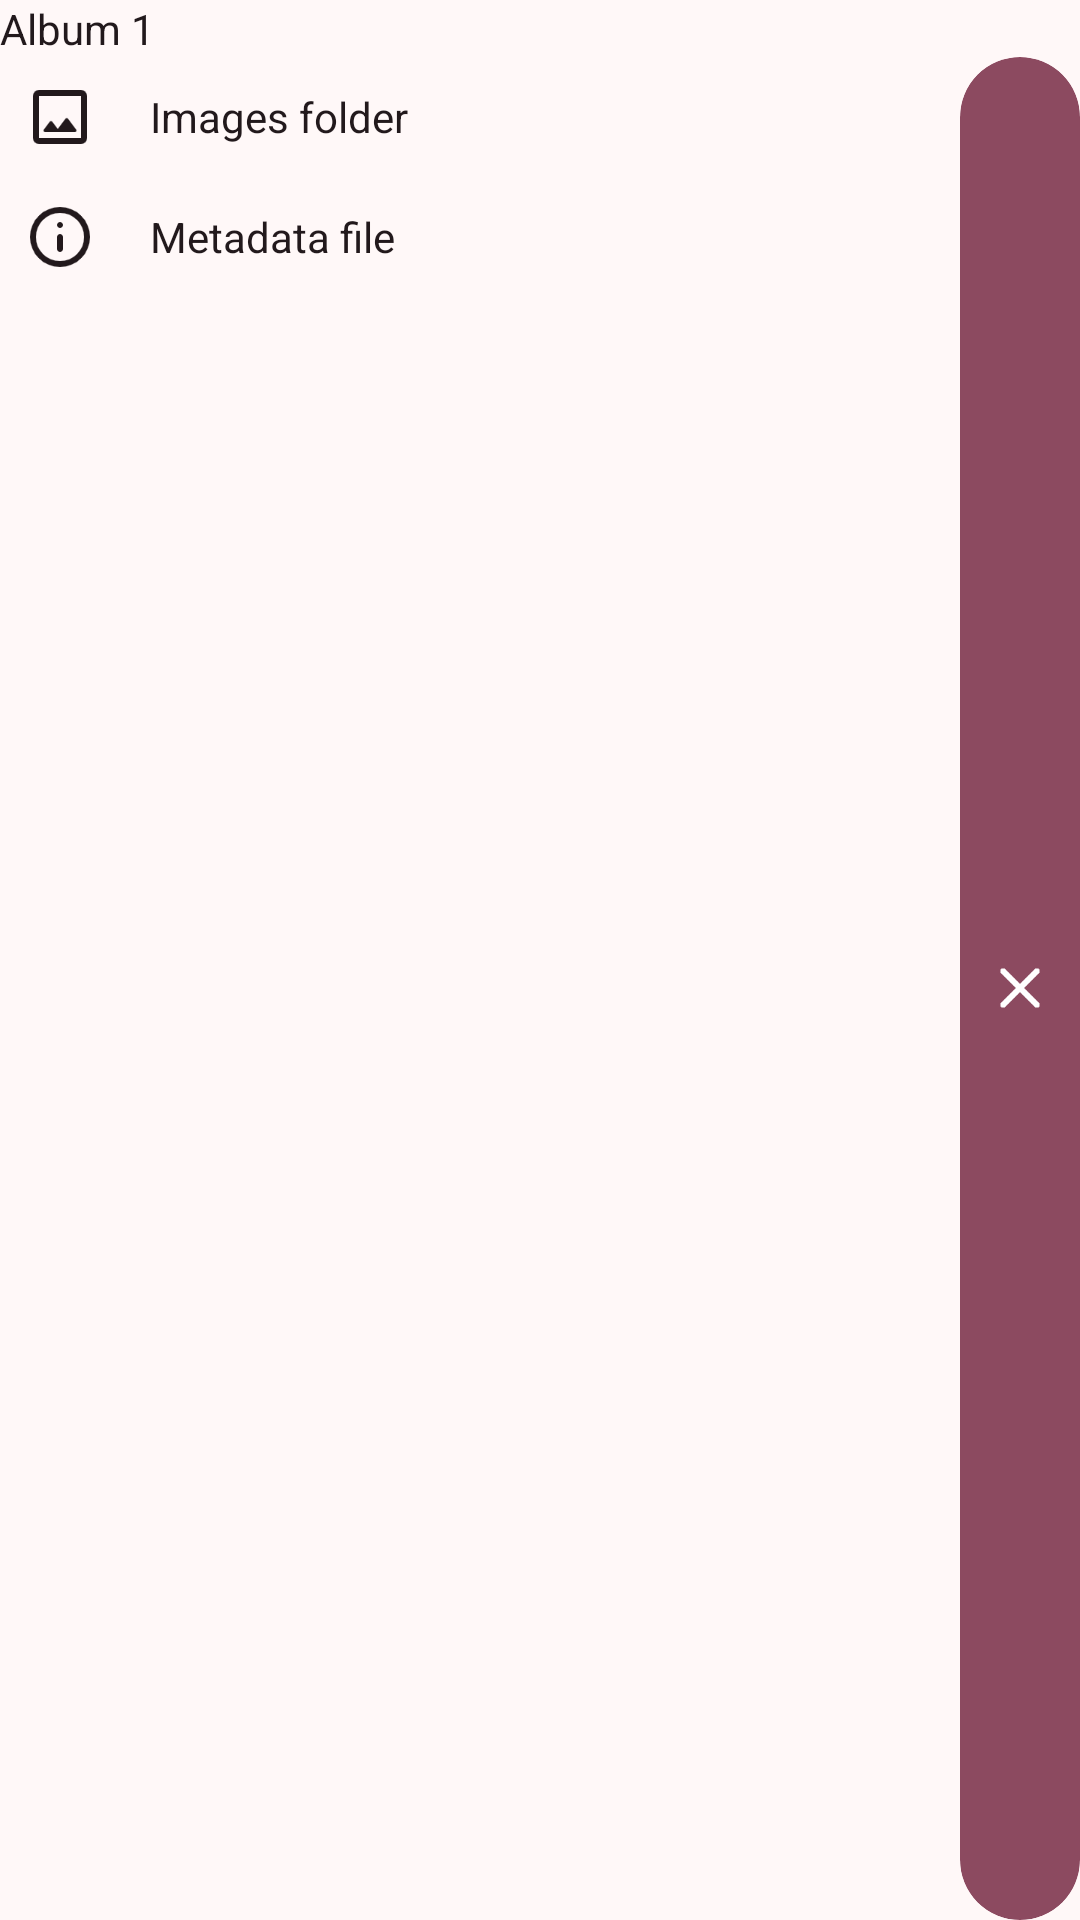

Named icons in this screenshot (1080x1920) and their centers, (x,y):
clear: (1020,988)
info: (60,237)
